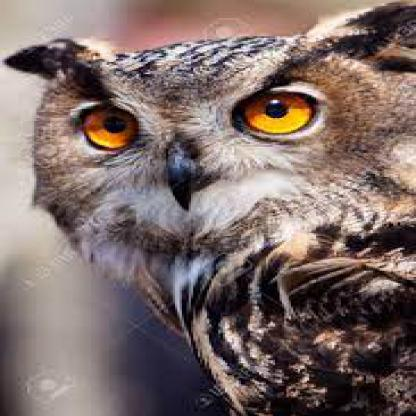owl: (38, 12, 414, 415)
